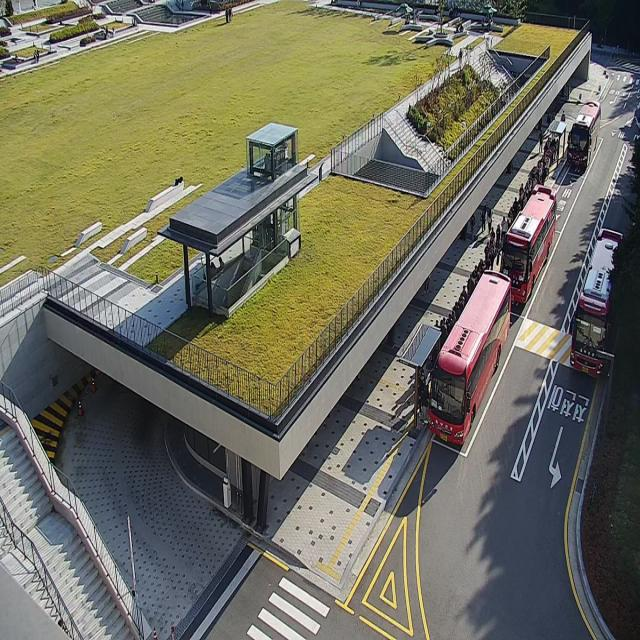queue: (415, 138, 559, 430)
